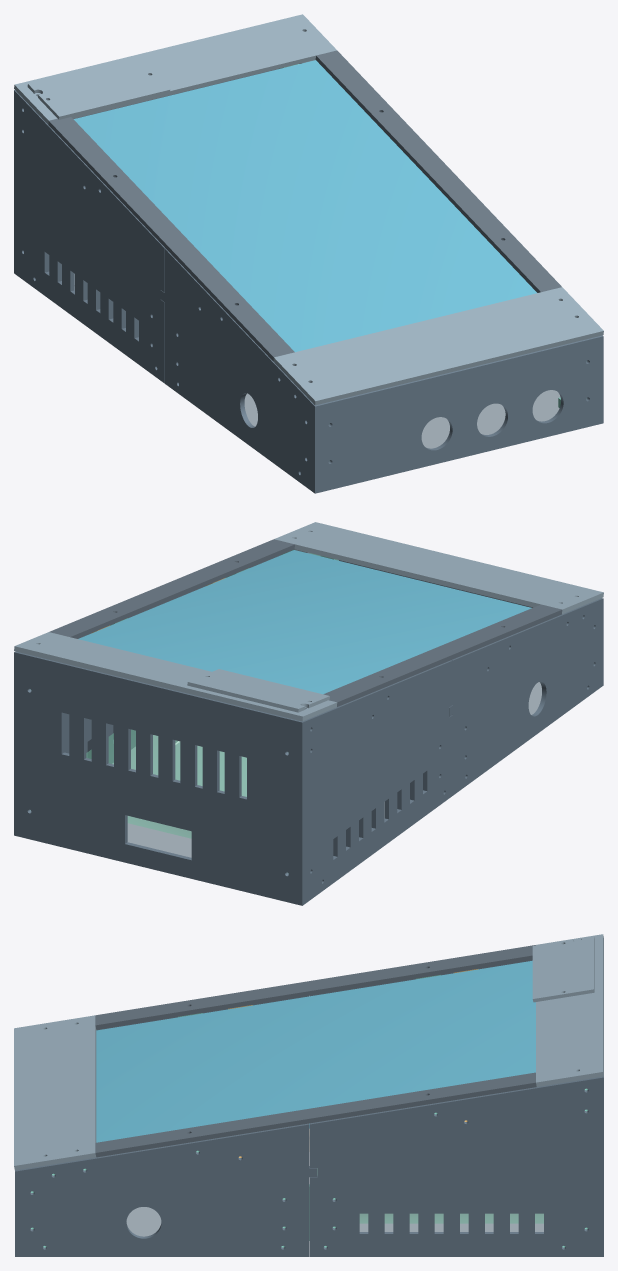
The model's file is cabinet-v1_5.glb.
3 views of the same model, one above another, from view 1: azimuth 30°, elevation 25°; view 2: azimuth 150°, elevation 25°; view 3: azimuth 270°, elevation 25° (orthographic). The views are drawn at different scales.
Parts seen in each view (by area): view 1: REFERENCE_Monitor, left_rear_wall, front_button_panel, left_front_wall, front_cable_lid, rear_control_deck, bezel_right_a1_a2, bezel_left_one_piece, control_hatch, bottom_front; view 2: rear_vent_panel, REFERENCE_Monitor, left_rear_wall, left_front_wall, front_cable_lid, rear_control_deck, bezel_right_a1_a2, bezel_left_one_piece, bottom_rear, control_hatch, REFERENCE_Dell_3050, right_rear_wall; view 3: REFERENCE_Monitor, right_rear_wall, right_front_wall, front_cable_lid, bezel_right_a1_a2, bezel_left_one_piece, rear_control_deck, control_hatch, bottom_rear, bottom_front, REFERENCE_Dell_3050.
Part boxes in pixels (x1,y1,x2,y2): REFERENCE_Monitor: (73,60,536,352); left_rear_wall: (14,90,164,383); front_button_panel: (319,336,598,492); left_front_wall: (160,248,319,493); front_cable_lid: (273,287,603,405); rear_control_deck: (14,14,336,124); bezel_right_a1_a2: (315,50,561,292); bezel_left_one_piece: (48,117,294,360); control_hatch: (27,56,170,119); bottom_front: (244,390,560,448); rear_vent_panel: (18,652,299,904); REFERENCE_Monitor: (78,550,531,694); left_rear_wall: (298,660,452,905); left_front_wall: (449,598,603,795); front_cable_lid: (274,522,603,614); rear_control_deck: (14,632,337,721); bezel_right_a1_a2: (49,539,294,638); bezel_left_one_piece: (323,604,562,706); bottom_rear: (112,735,384,857); control_hatch: (187,669,329,712); REFERENCE_Dell_3050: (86,729,246,838); right_rear_wall: (14,601,168,836); REFERENCE_Monitor: (96,960,535,1142); right_rear_wall: (309,1076,603,1256); right_front_wall: (15,1123,316,1256); front_cable_lid: (14,1015,96,1170); bezel_right_a1_a2: (95,1072,536,1157); bezel_left_one_piece: (95,945,535,1029); rear_control_deck: (536,934,603,1086); control_hatch: (532,936,594,1002); bottom_rear: (317,1168,543,1231); bottom_front: (126,1207,161,1236); REFERENCE_Dell_3050: (317,1168,543,1223).
Size of the model in its own units: 0.26 by 0.1646 by 0.4707.
